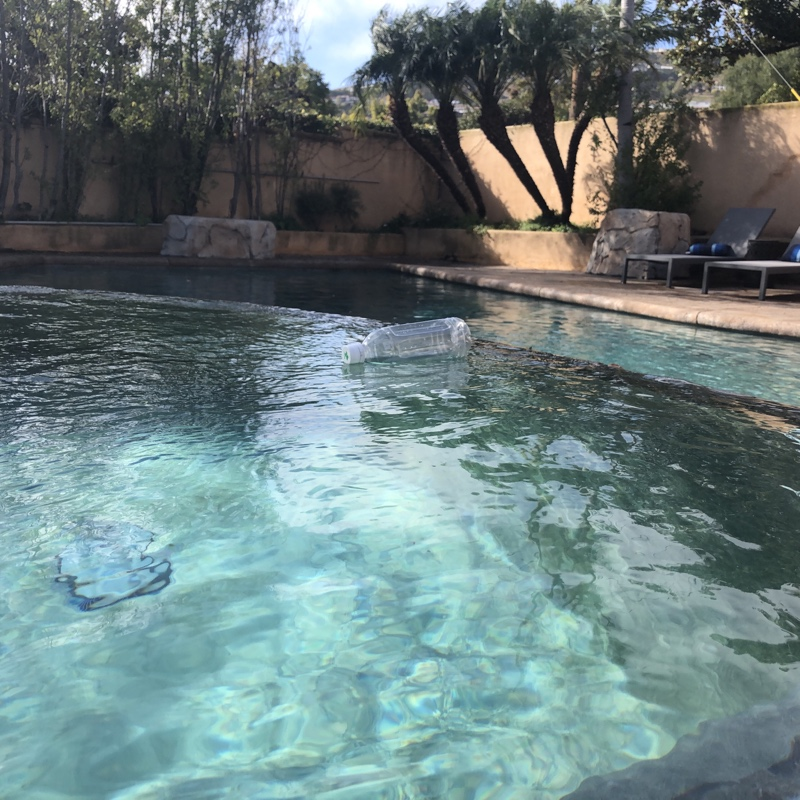Plastic Bottle: (337, 314, 479, 371)
